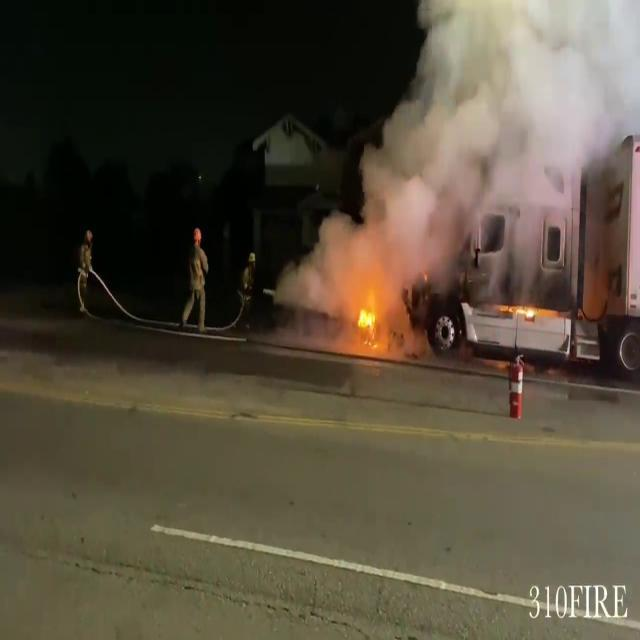Fire: (352, 284, 385, 346)
Smoke: (311, 0, 640, 304)
